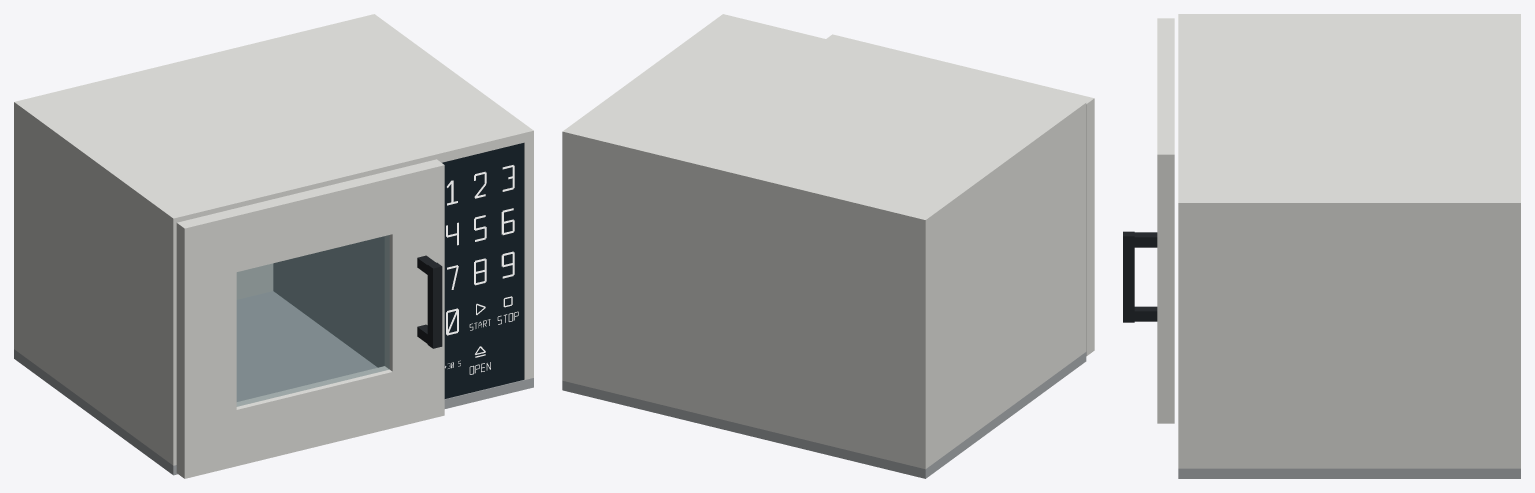
The picture shows the model from 3 angles, left to right: view 1: azimuth 30°, elevation 25°; view 2: azimuth 150°, elevation 25°; view 3: azimuth 270°, elevation 25°; orthographic projection. The views are drawn at different scales.
Visible parts, largest first — view 1: case_top, case_left, door_window, touch_panel, door_frame_left, cavity_floor, door_frame_right_inner, door_frame_top, door_frame_bottom, cavity_divider, door_frame_right, case_right (+2 smaller); view 2: case_back, case_top, case_left, cavity_floor, door_frame_left, case_right, door_frame_top; view 3: case_right, case_top, door_frame_right, cavity_floor, door_frame_top, door_handle, door_frame_left.
Part boxes in pixels (<box>): case_top: <box>14,14,533,228</box>; case_left: <box>14,112,176,465</box>; door_window: <box>237,235,389,406</box>; touch_panel: <box>442,143,524,398</box>; door_frame_left: <box>176,210,236,478</box>; cavity_floor: <box>14,291,533,475</box>; door_frame_right_inner: <box>384,162,430,427</box>; door_frame_top: <box>229,172,392,271</box>; door_frame_bottom: <box>236,366,392,465</box>; cavity_divider: <box>273,236,384,367</box>; door_frame_right: <box>423,159,444,418</box>; case_right: <box>524,140,533,379</box>; case_back: <box>571,143,916,466</box>; case_top: <box>562,14,1086,229</box>; case_left: <box>916,112,1086,469</box>; cavity_floor: <box>562,352,1086,478</box>; door_frame_left: <box>1036,85,1094,356</box>; case_right: <box>562,141,571,382</box>; door_frame_top: <box>879,47,1041,89</box>; case_right: <box>1178,213,1520,468</box>; case_top: <box>1178,14,1520,213</box>; door_frame_right: <box>1157,147,1174,423</box>; cavity_floor: <box>1178,468,1520,478</box>; door_frame_top: <box>1157,45,1174,127</box>; door_handle: <box>1123,231,1134,322</box>; door_frame_left: <box>1157,18,1174,45</box>.
Bounding box in the file's own units: 0.47 × 0.32 × 0.418.
